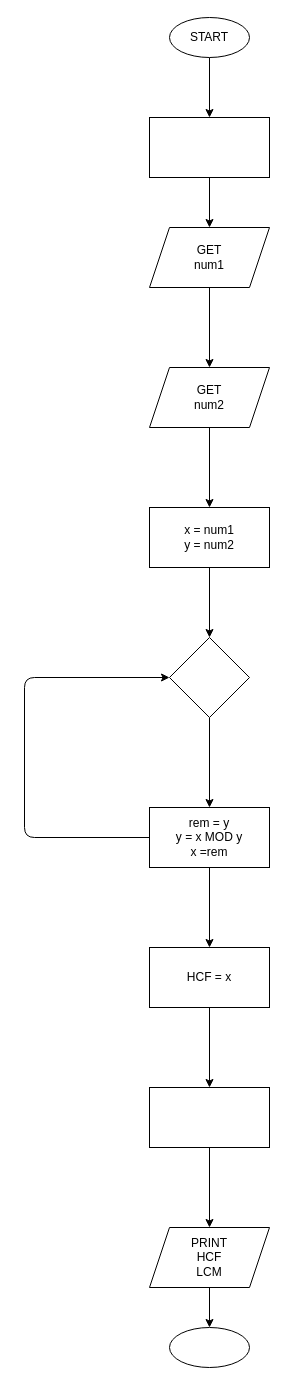
This 287x1385 diagram has some shape labels left out. The shapes that lost their labels are listed below. From the top down, each one's centre as x and y in pixels, then its label:
At (209,147): "int num1, num2, x, y, HCF, LCM, rem".
At (209,677): "WHILE y != 0".
At (209,1117): "LCM = (num1 * num2) / HCF".
At (209,1347): "END".
